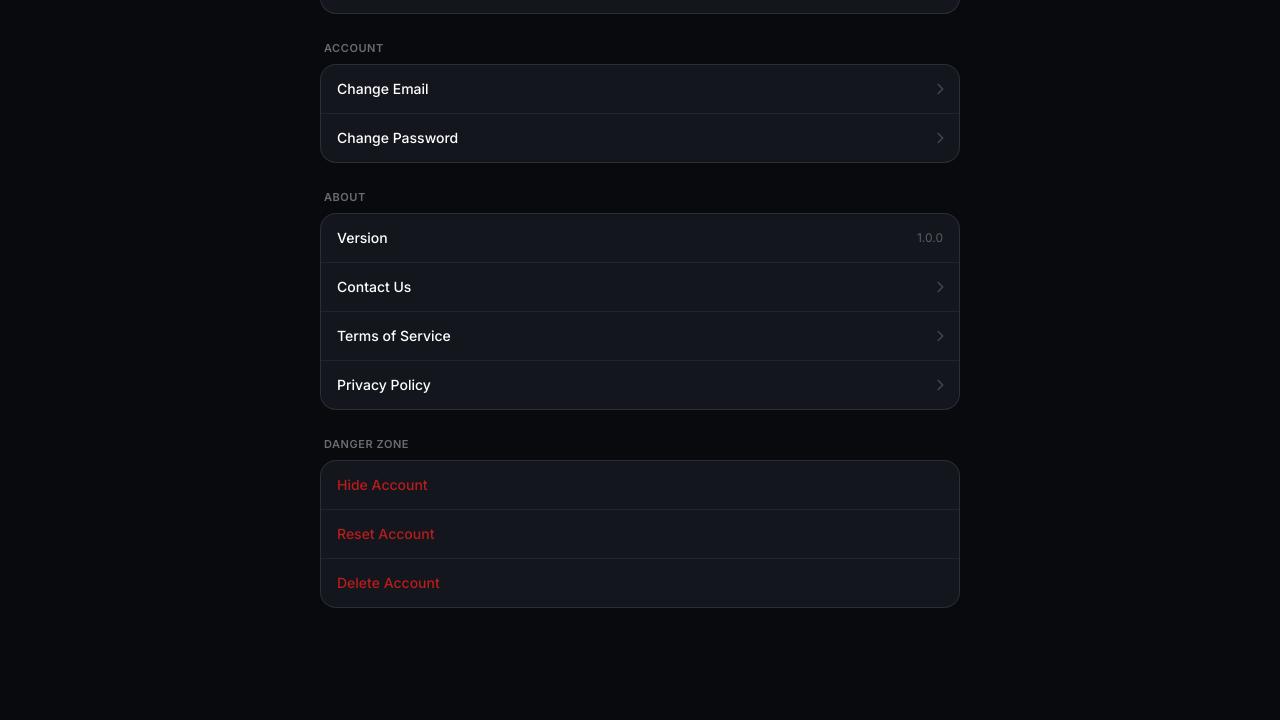
ProfileConfigurePage — danger zone › opens the Delete Account modal with delete-specific copy
This screenshot has width=1280, height=720.
(page scrolled)
Click the button "Delete Account".
click(388, 582)  # box left=321, top=558, right=959, bottom=607
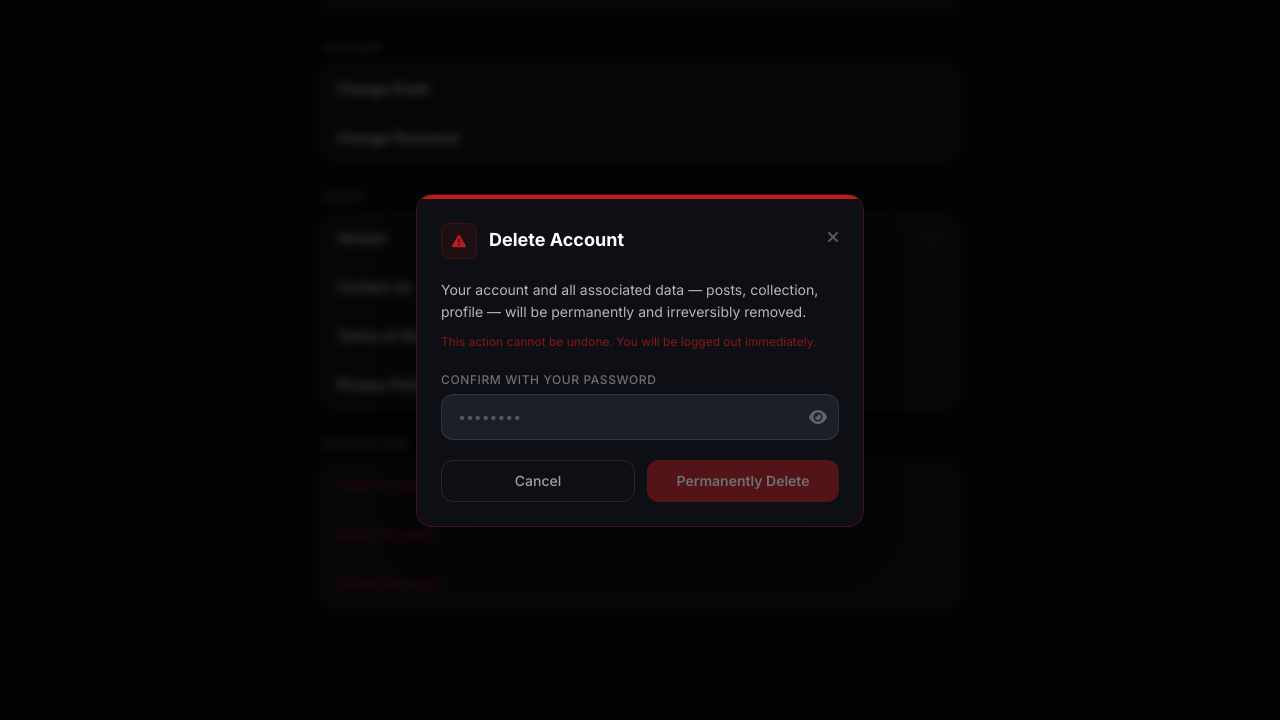
expect the heading "Delete Account" is shown: met, box left=489, top=229, right=624, bottom=252
expect the button "Permanently Delete" is shown: met, box left=647, top=460, right=839, bottom=502
